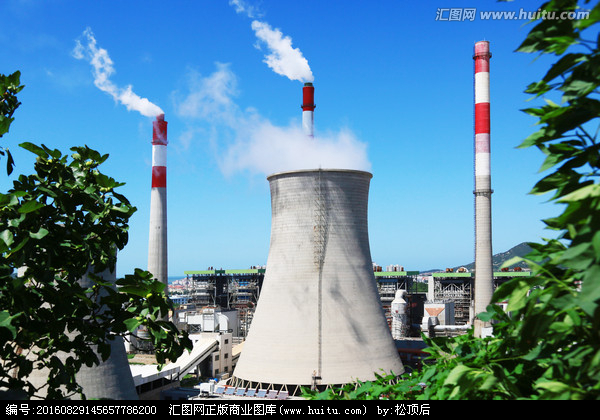dust: (212, 110, 385, 182), (239, 20, 333, 91), (88, 60, 179, 128)
